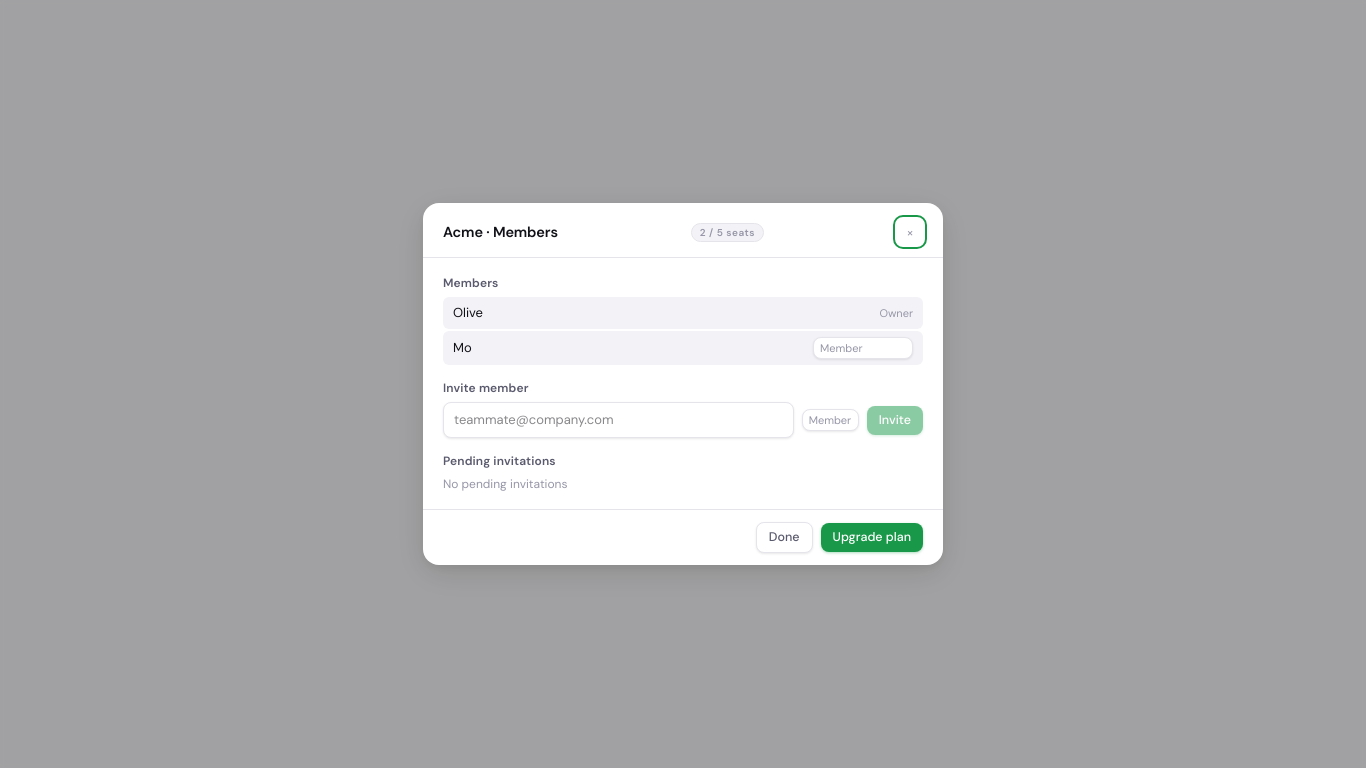
it: transferring ownership › surfaces a rejected change instead of failing silently
The image size is (1366, 768).
Step 1. Select "admin" in the dropdown named "Role for Mo" → x=863, y=348, box x1=813 y1=337 x2=913 y2=359
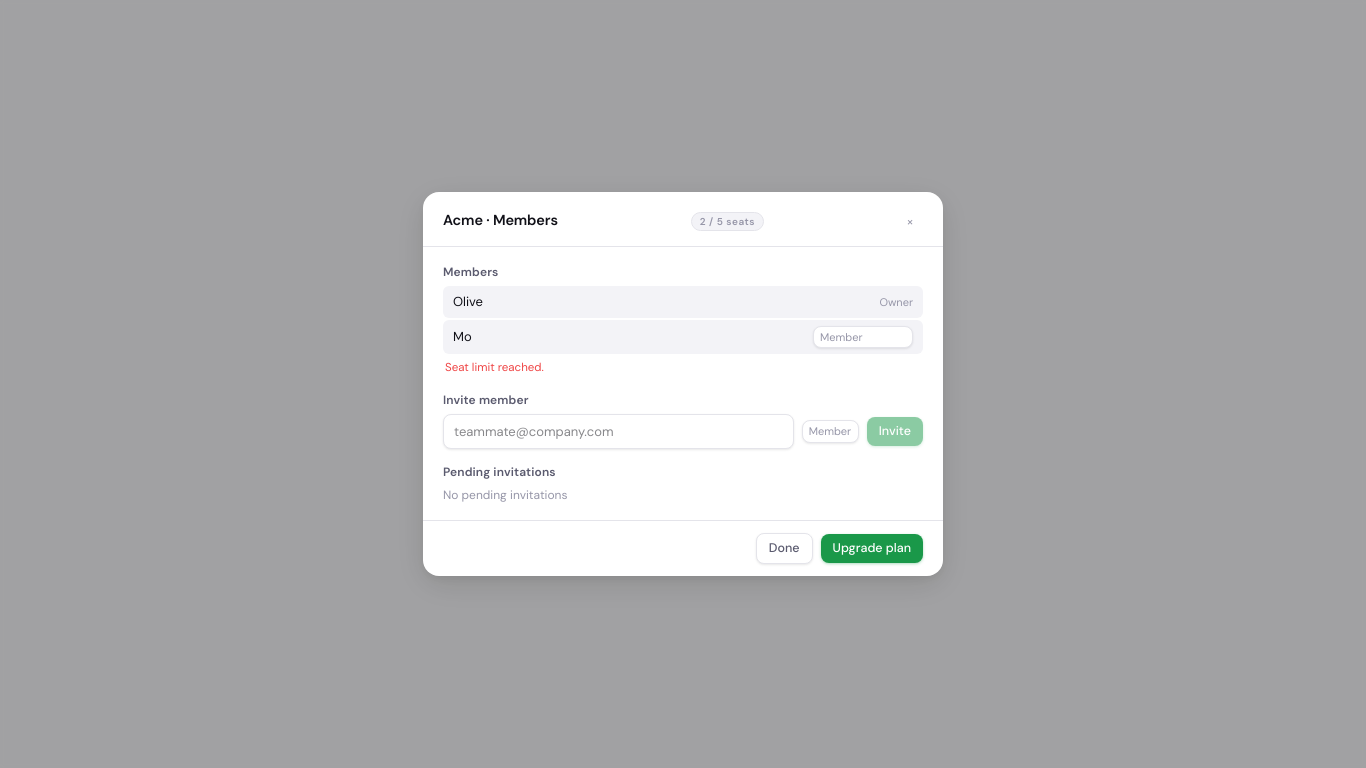
Expected: the message reads "Seat limit reached.", x1=445 y1=360 x2=544 y2=375
